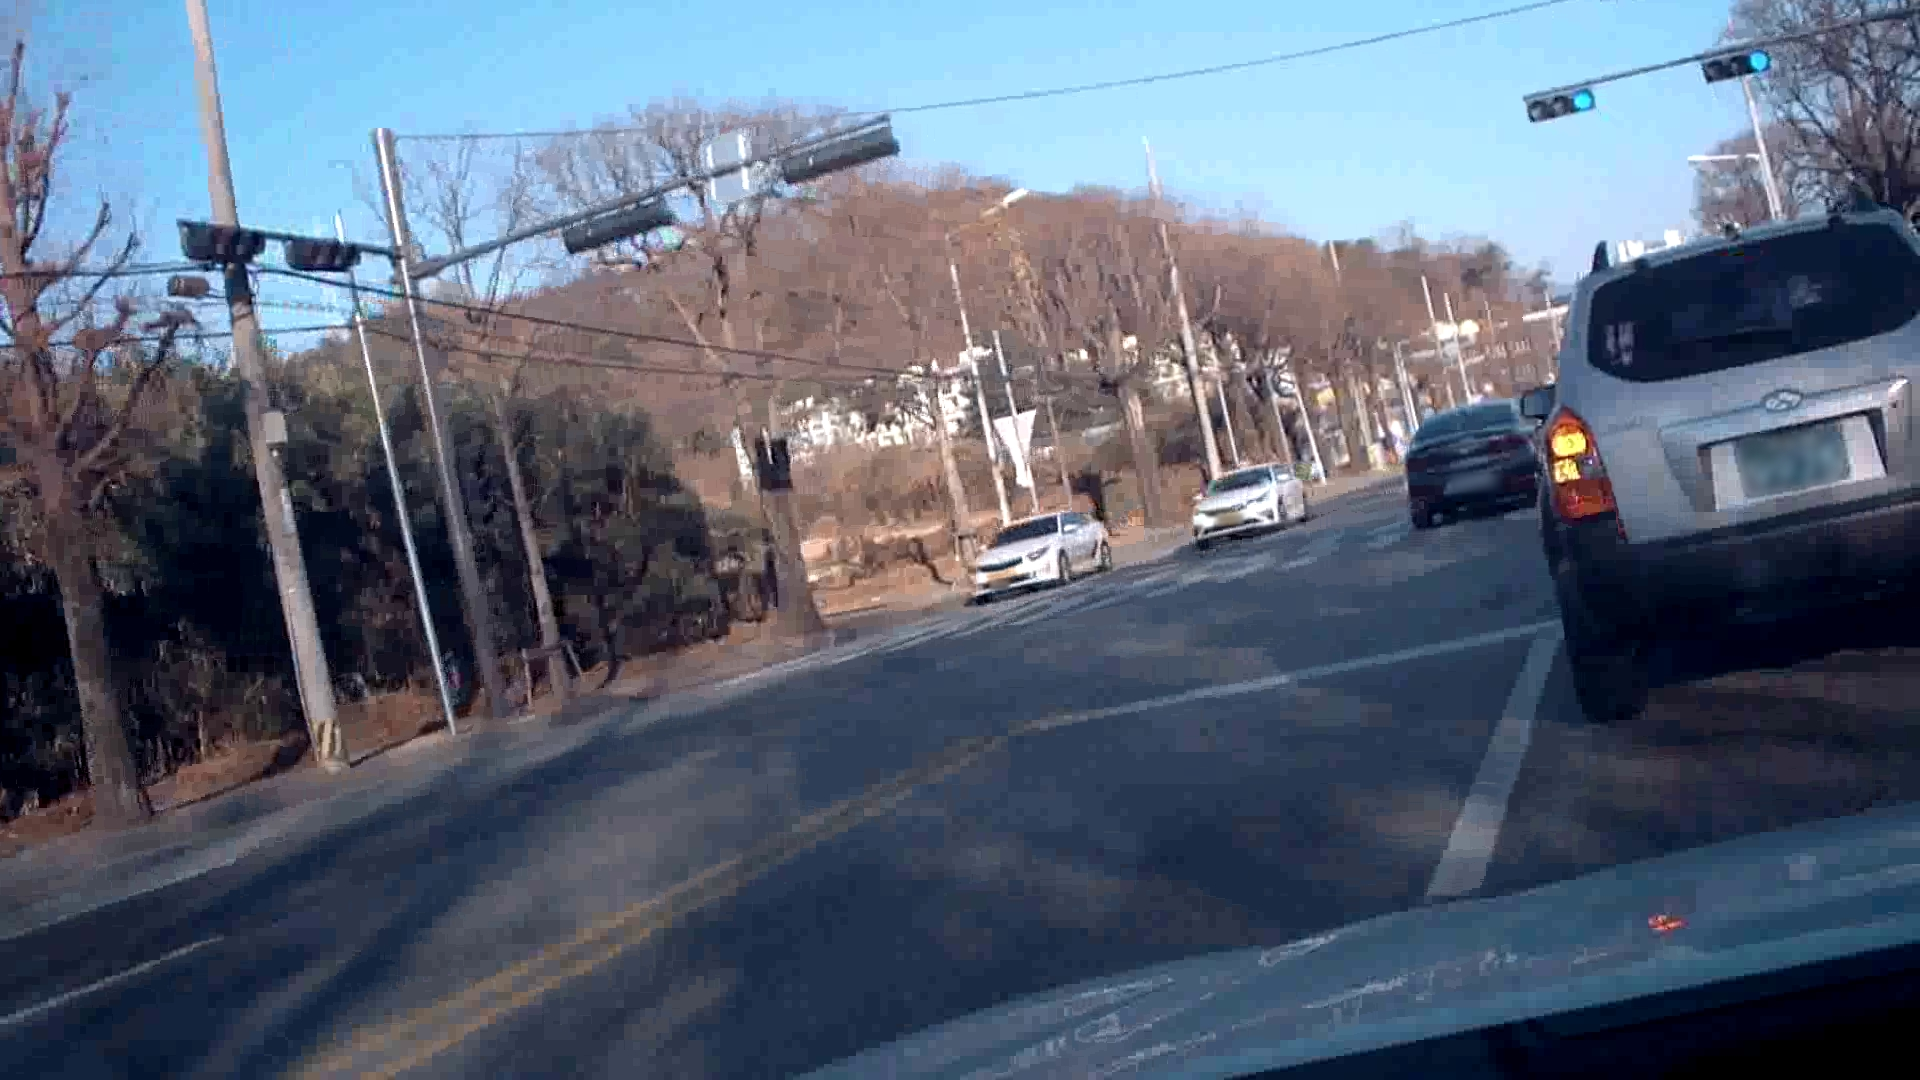trafficLight: (1520, 79, 1596, 125), (1701, 44, 1771, 87)
